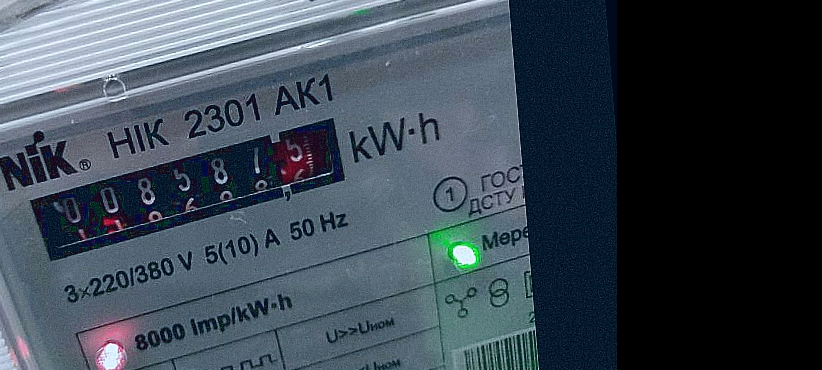0: (94, 179, 123, 215), (57, 190, 85, 224)
5: (169, 160, 194, 193), (281, 129, 305, 162)
6: (288, 164, 308, 182)
7: (243, 141, 267, 177)
8: (205, 151, 231, 186), (133, 172, 159, 206)
screen: (16, 113, 371, 263)
